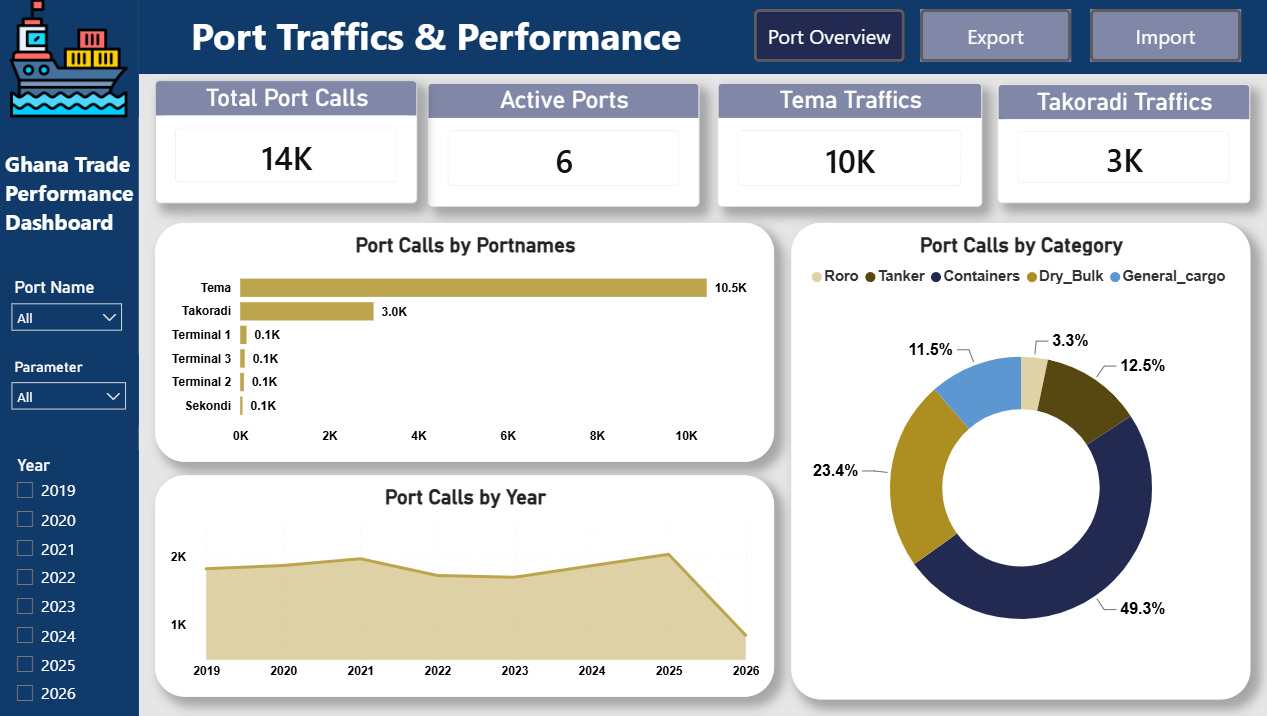

This screenshot's page, from the dashboard's own definition file:
{"tool":"powerbi","page":{"name":" Port Overview","canvas":[1280,720],"ordinal":0},"visuals":[{"type":"shape","box":[0,0,1280,720],"z":0},{"type":"shape","box":[148.8,0,1132,75],"z":1000},{"type":"shape","box":[8.8,0,140,720],"z":2000},{"type":"cardVisual","title":"Active Ports","fields":{"Data":["All The Measures.Avtive Port"]},"box":[437.8,83.5,272.2,123.8],"z":3000},{"type":"cardVisual","title":"Tema Traffics","fields":{"Data":["All The Measures.Tema Traffics"]},"box":[727.2,83.5,265,123.8],"z":4000},{"type":"cardVisual","title":"Takoradi Traffics","fields":{"Data":["All The Measures.Takoradi Traffics"]},"box":[1007.6,84.6,252.5,119.4],"z":5000},{"type":"clusteredBarChart","title":"Port Calls by Portnames","fields":{"Category":["port_data.portname"],"Y":["All The Measures.Total Ports Call"]},"box":[165.4,223.9,619.5,238.8],"z":6000},{"type":"areaChart","title":"Port Calls by Year","fields":{"Category":["ghana_port_activity.date..Variation.Date Hierarchy.Year","ghana_port_activity.date..Variation.Date Hierarchy.Quarter","ghana_port_activity.date..Variation.Date Hierarchy.Month","ghana_port_activity.date..Variation.Date Hierarchy.Day"],"Y":["Sum(ghana_port_activity.portcalls)"]},"box":[165.4,476.4,619.5,221.4],"z":7000},{"type":"donutChart","title":"Port Calls by Category","fields":{"Y":["ghana_port_activity.Roro","ghana_port_activity.Tanker","ghana_port_activity.Port_Containers","ghana_port_activity.Dry_Bulk","ghana_port_activity.General_cargo"]},"box":[801.1,223.9,459,476.4],"z":8000},{"type":"slicer","fields":{"Values":["port_data.portname"]},"box":[8.8,270,136.2,67.5],"z":9000},{"type":"slicer","fields":{"Values":["ghana_port_activity.year"]},"box":[11.2,447.5,137.5,272.5],"z":12000},{"type":"slicer","fields":{"Values":["Parameter 3.Parameter"]},"box":[8.8,351.2,140,78.8],"z":13000},{"type":"textbox","box":[165.4,6.2,562.3,59.7],"z":14000},{"type":"cardVisual","title":"Total Port Calls","fields":{"Data":["All The Measures.Total Ports Call"]},"box":[165.4,80.9,262.5,123.2],"z":15000},{"type":"image","box":[8.8,0,140,118.8],"z":18000},{"type":"actionButton","box":[763.5,10,151,53],"z":19000},{"type":"actionButton","box":[930.2,10,151,53],"z":20000},{"type":"actionButton","box":[1099.4,10,151,53],"z":21000},{"type":"textbox","box":[10,145,140,103.8],"z":22000}]}

Visuals, with their boxes in screenshot pixels (x1, y1, x2, y2), scaled from the page's 1280x720 canvas onto the 1267x716 screenshot:
shape: bbox=[0, 0, 1266, 715]
shape: bbox=[147, 0, 1266, 75]
shape: bbox=[9, 0, 147, 715]
"Active Ports" cardVisual: bbox=[433, 83, 703, 206]
"Tema Traffics" cardVisual: bbox=[720, 83, 982, 206]
"Takoradi Traffics" cardVisual: bbox=[997, 84, 1247, 203]
"Port Calls by Portnames" clusteredBarChart: bbox=[164, 223, 777, 460]
"Port Calls by Year" areaChart: bbox=[164, 474, 777, 694]
"Port Calls by Category" donutChart: bbox=[793, 223, 1247, 696]
slicer - port_data.portname: bbox=[9, 268, 144, 336]
slicer - ghana_port_activity.year: bbox=[11, 445, 147, 715]
slicer - Parameter 3.Parameter: bbox=[9, 349, 147, 428]
textbox: bbox=[164, 6, 720, 66]
"Total Port Calls" cardVisual: bbox=[164, 80, 424, 203]
image: bbox=[9, 0, 147, 118]
actionButton: bbox=[756, 10, 905, 63]
actionButton: bbox=[921, 10, 1070, 63]
actionButton: bbox=[1088, 10, 1238, 63]
textbox: bbox=[10, 144, 148, 247]
